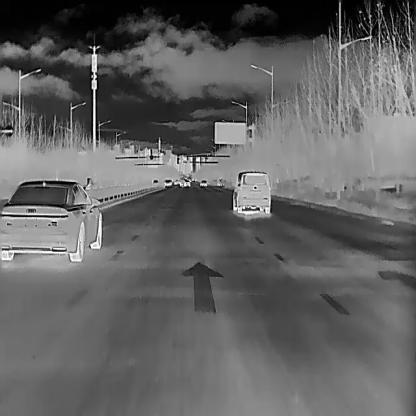car: (0, 178, 101, 261), (233, 170, 270, 214), (178, 177, 190, 186), (163, 178, 172, 186), (199, 178, 206, 185), (151, 179, 159, 184)
